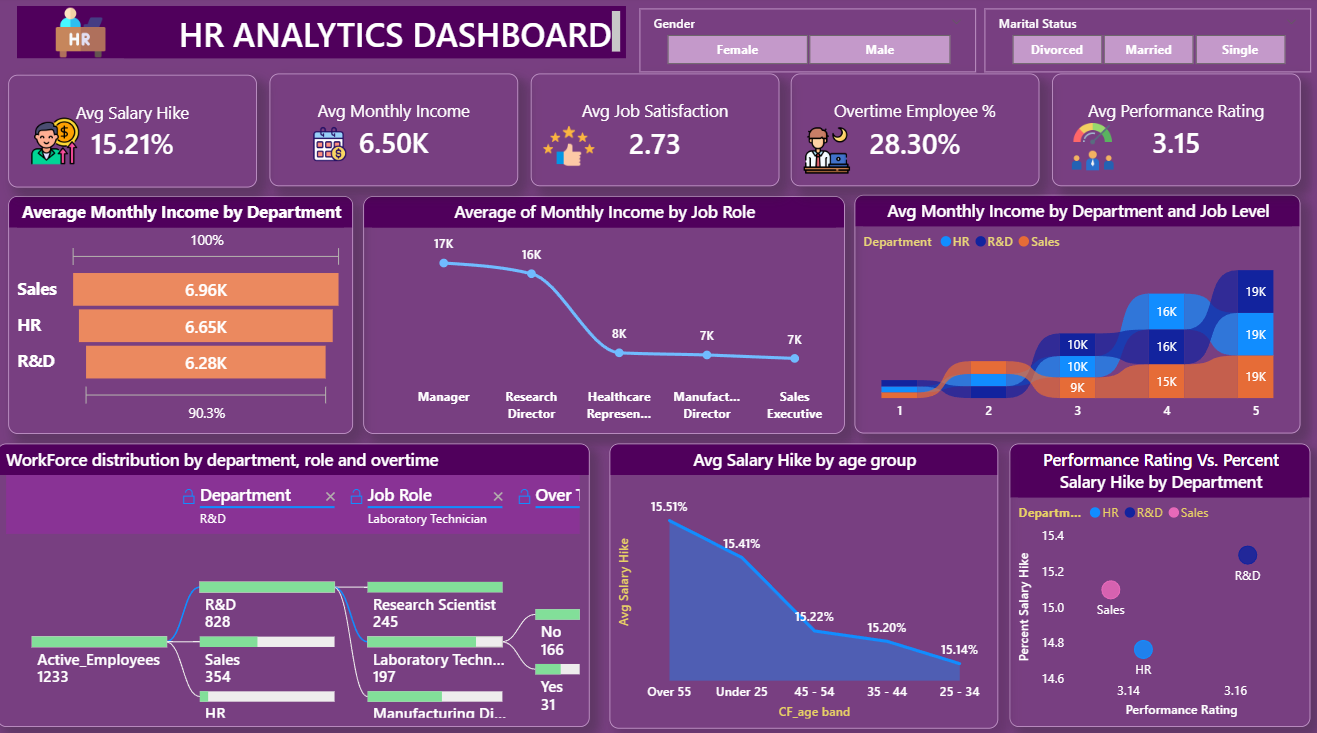

What the dashboard file says about the page in this screenshot:
{"tool":"powerbi","page":{"name":"Employee Performance & Compensation","canvas":[1280,720],"ordinal":1},"visuals":[{"type":"funnel","title":"Average  Monthly Income by Department","fields":{"Category":["HR data.Department"],"Y":["Avg(HR data.Monthly Income)"]},"box":[10.9,193,333,229.2],"z":0},{"type":"lineChart","fields":{"Category":["HR data.Job Role"],"Y":["Avg(HR data.Monthly Income)"]},"box":[353.5,193,464.5,229.2],"z":1000},{"type":"cardVisual","fields":{"Data":["HR data.Avg Salary Hike"]},"box":[10.9,80.8,240.1,100.1],"z":2000},{"type":"ribbonChart","title":"Avg Monthly Income by Department and Job Level","fields":{"Y":["Avg(HR data.Monthly Income)"],"Category":["HR data.Job Level"],"Series":["HR data.Department"]},"box":[827.6,191.8,430.7,230.4],"z":3000},{"type":"image","box":[31.4,117,49.5,45.8],"z":4000},{"type":"cardVisual","fields":{"Data":["Avg(HR data.Monthly Income)"]},"box":[260.6,80.8,240.1,100.1],"z":5000},{"type":"cardVisual","fields":{"Data":["HR data.Avg Job Satisfaction"]},"box":[510.3,82,240.1,100.1],"z":6000},{"type":"cardVisual","fields":{"Data":["HR data.Overtime Employee %"]},"box":[762.5,82,240.1,100.1],"z":7000},{"type":"image","box":[774.5,126.7,53.1,44.6],"z":8000},{"type":"image","box":[524.8,117,54.3,54.3],"z":9000},{"type":"image","box":[298,114.6,45.8,56.7],"z":10000},{"type":"cardVisual","fields":{"Data":["Avg(HR data.Performance Rating)"]},"box":[1018.2,83.2,240.1,100.1],"z":11000},{"type":"image","box":[1032.7,117,49.5,56.7],"z":12000},{"type":"clusteredBarChart","title":"Performance Rating Vs. Percent Salary Hike by Department","fields":{"Y":["Avg(HR data.Performance Rating)","HR data.Avg Salary Hike"],"Category":["HR data.Department"]},"box":[970,431.9,298,273.9],"z":13000},{"type":"decompositionTreeVisual","title":"WorkForce Distribution by Department, Role and Overtime","fields":{"ExplainBy":["HR data.Department","HR data.Job Role","HR data.Over Time"],"Analyze":["HR data.Active_Employees"]},"box":[7.2,431.9,571.9,273.9],"z":14000},{"type":"areaChart","title":"Avg Salary Hike by age group","fields":{"Y":["HR data.Avg Salary Hike"],"Category":["HR data.CF_age band"]},"box":[586.3,430.7,375.2,275.1],"z":15000},{"type":"textbox","box":[9.7,0,594.8,67.6],"z":16000},{"type":"image","box":[31.4,10.9,67.6,45.8],"z":17000},{"type":"slicer","fields":{"Values":["HR data.Marital Status"]},"box":[957.9,7.2,300.4,67.6],"z":18000},{"type":"slicer","fields":{"Values":["HR data.Gender"]},"box":[639.4,7.2,300.4,67.6],"z":19000}]}

Visuals, with their boxes in screenshot pixels (x1, y1, x2, y2), scaled from the page's 1280x720 canvas onto the 1317x733 screenshot:
"Average  Monthly Income by Department" funnel: crop(11, 196, 354, 430)
lineChart - HR data.Job Role x Avg(HR data.Monthly Income): crop(364, 196, 842, 430)
cardVisual - HR data.Avg Salary Hike: crop(11, 82, 258, 184)
"Avg Monthly Income by Department and Job Level" ribbonChart: crop(852, 195, 1295, 430)
image: crop(32, 119, 83, 166)
cardVisual - Avg(HR data.Monthly Income): crop(268, 82, 515, 184)
cardVisual - HR data.Avg Job Satisfaction: crop(525, 83, 772, 185)
cardVisual - HR data.Overtime Employee %: crop(785, 83, 1032, 185)
image: crop(797, 129, 852, 174)
image: crop(540, 119, 596, 174)
image: crop(307, 117, 354, 174)
cardVisual - Avg(HR data.Performance Rating): crop(1048, 85, 1295, 187)
image: crop(1063, 119, 1113, 177)
"Performance Rating Vs. Percent Salary Hike by Department" clusteredBarChart: crop(998, 440, 1305, 719)
"WorkForce Distribution by Department, Role and Overtime" decompositionTreeVisual: crop(7, 440, 596, 719)
"Avg Salary Hike by age group" areaChart: crop(603, 438, 989, 719)
textbox: crop(10, 0, 622, 69)
image: crop(32, 11, 102, 58)
slicer - HR data.Marital Status: crop(986, 7, 1295, 76)
slicer - HR data.Gender: crop(658, 7, 967, 76)
